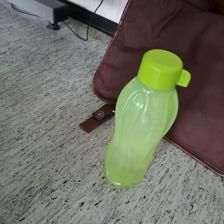bottle: (97, 46, 192, 190)
